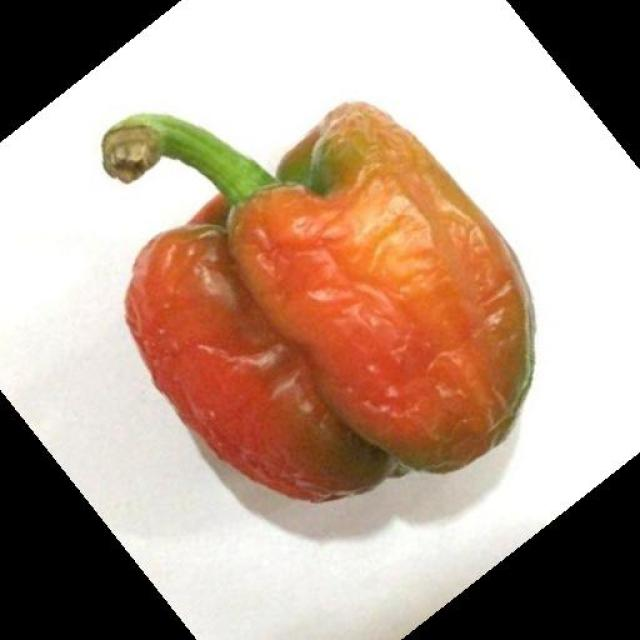Stale_Capsicum: (85, 98, 553, 504)
